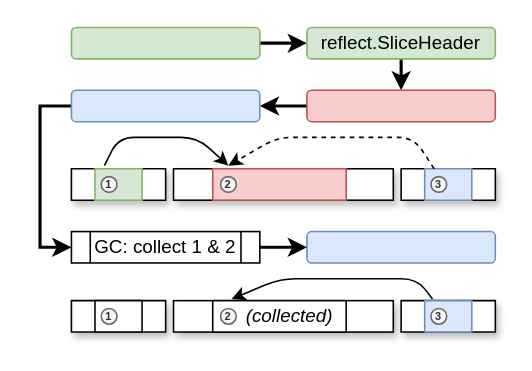
The diagram is 532 pixels wide and 371 high, and some of its shapes have lost their labels. The shapes that lost their labels are listed below. From the top down, each one's centre as x and y in pixels, then its label:
At point 165,42: "[]byte".
At point 165,105: "reflect.StringHeader".
At point 400,105: "Data: uintptr".
At point 400,246: "string".
